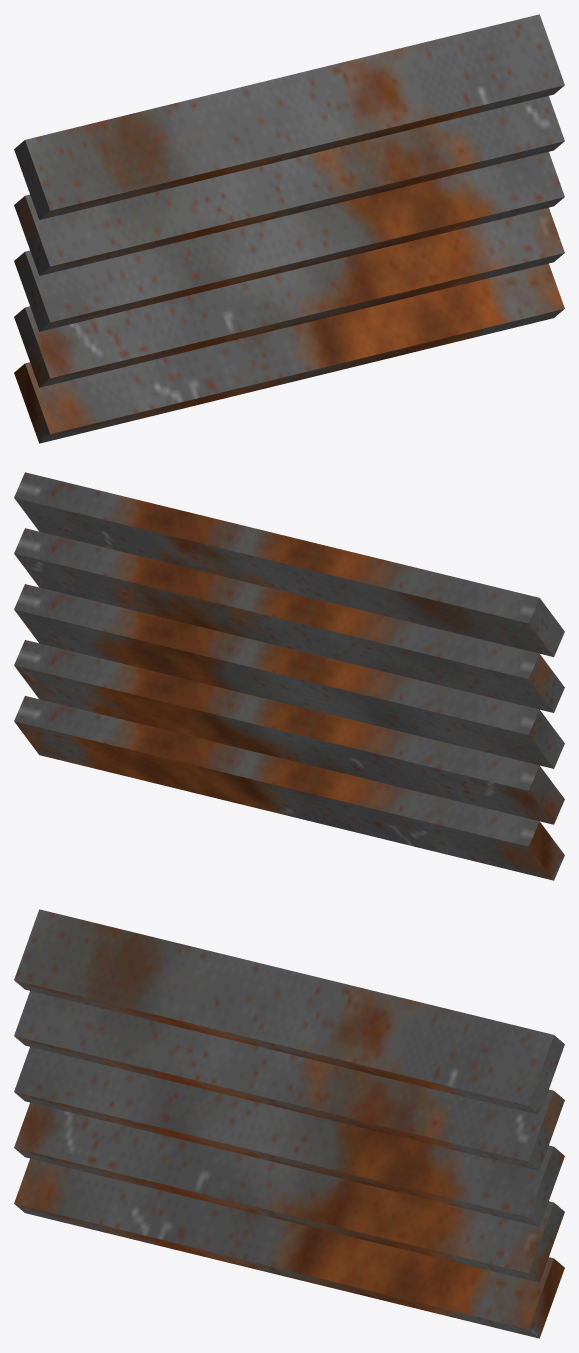
Rendered from DoorFlap.fbx.
3 views of the same model, one above another, from view 1: azimuth 30°, elevation 25°; view 2: azimuth 150°, elevation 25°; view 3: azimuth 330°, elevation 25° (orthographic).
Visible parts, largest first — view 1: DoorFlap; view 2: DoorFlap; view 3: DoorFlap.
Boxes of the visible parts, left/top/right/bottom form: DoorFlap: left=14, top=14, right=564, bottom=443; DoorFlap: left=14, top=472, right=564, bottom=880; DoorFlap: left=14, top=909, right=564, bottom=1338.
Size of the model in its own units: 0.6074 by 0.3308 by 0.0742.
1 material, 1 textured.
